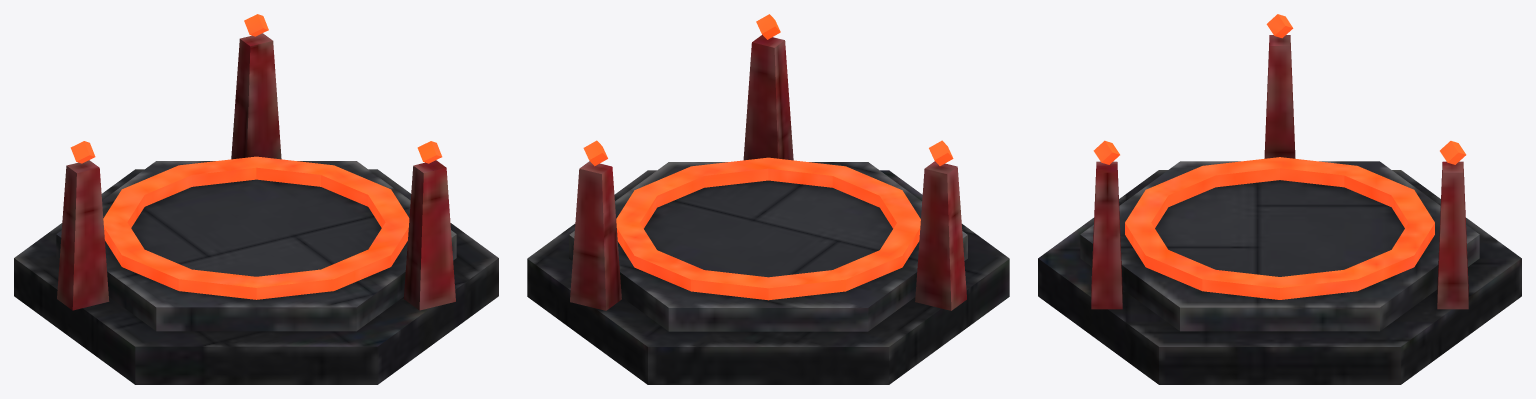
File: u_arcbase1_e.glb
3 views of the same model, side by side, from view 1: azimuth 30°, elevation 25°; view 2: azimuth 150°, elevation 25°; view 3: azimuth 270°, elevation 25° (orthographic).
Visible parts, largest first — view 1: u_arcbase1_e; view 2: u_arcbase1_e; view 3: u_arcbase1_e.
Boxes of the visible parts, left/top/right/bottom form: u_arcbase1_e: left=14, top=14, right=498, bottom=384; u_arcbase1_e: left=527, top=14, right=1009, bottom=384; u_arcbase1_e: left=1038, top=14, right=1521, bottom=384.
Size of the model in its own units: 0.8184 by 0.4156 by 0.92.
1 material, 1 textured.
